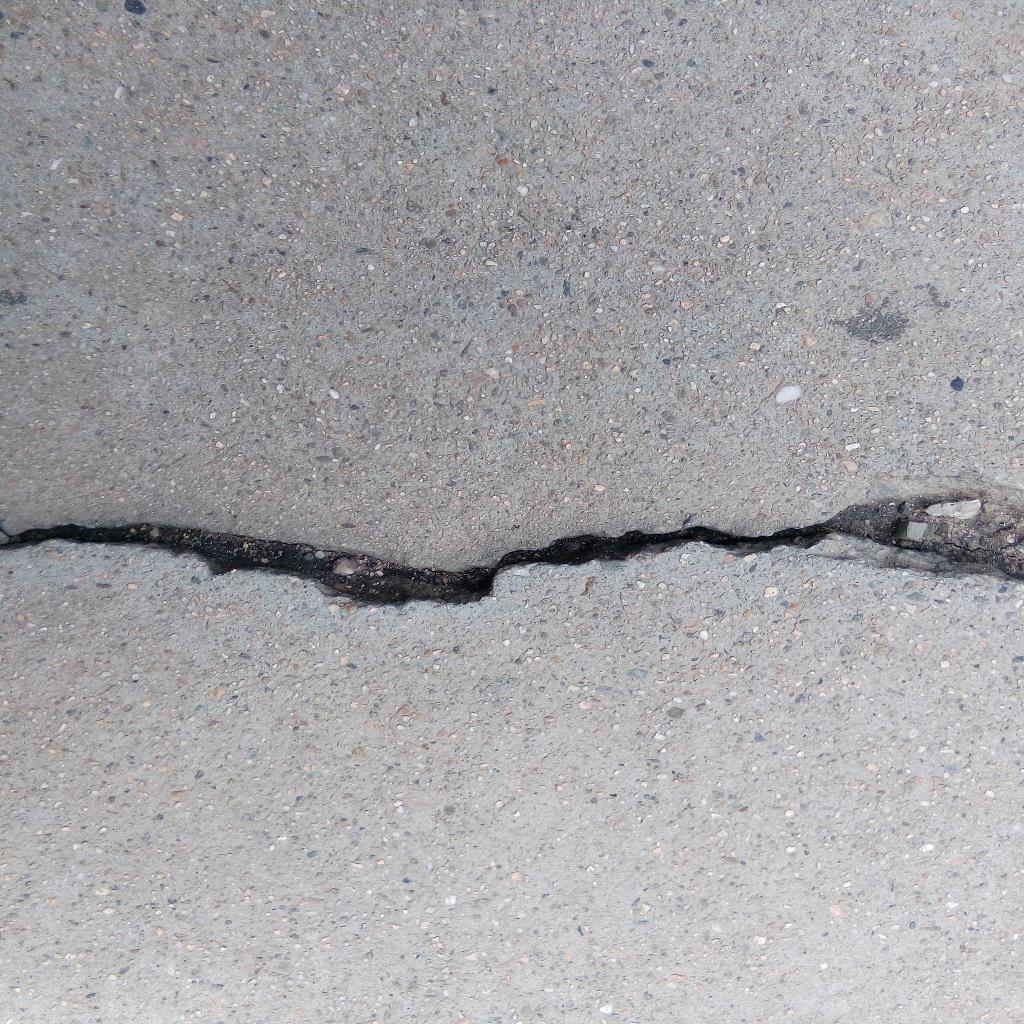Crack: (1, 519, 828, 613)
Spalling: (827, 490, 1024, 584)
